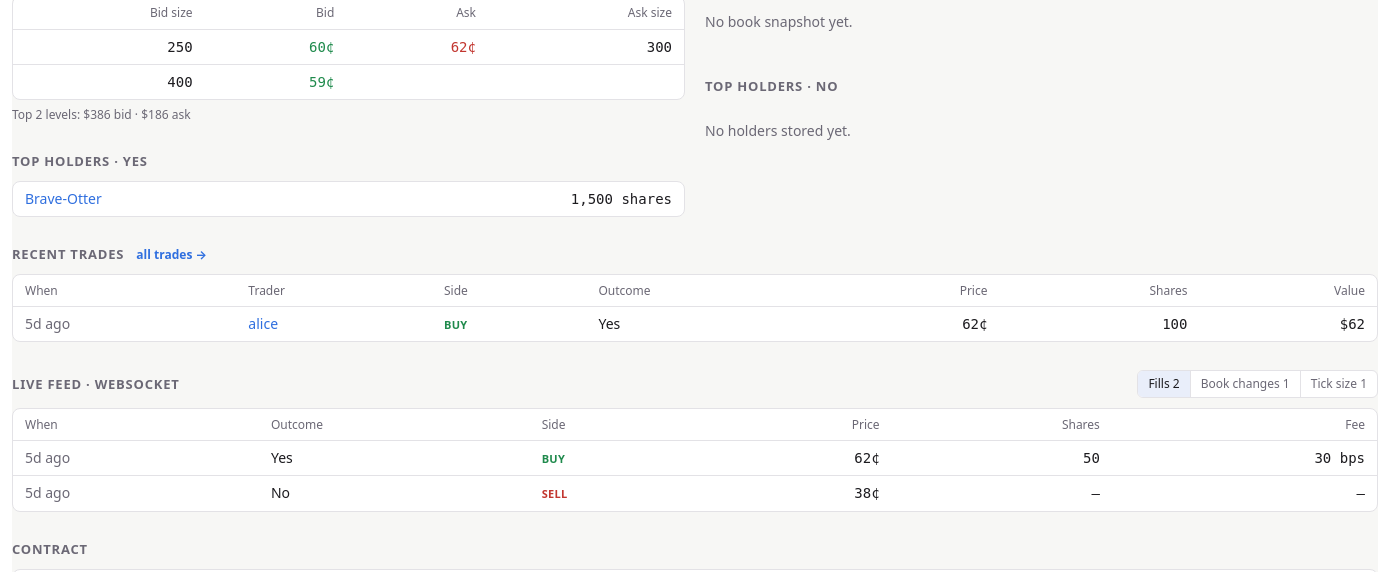
Scenario: Market page › shows the live feed and switches between fills, book changes and tick sizes
(page scrolled)
Check: the heading "Live feed · websocket" is shown, box [12,375,180,393]
Click the button "Book changes 1". click: (1245, 384)
box: [1190,371,1300,397]
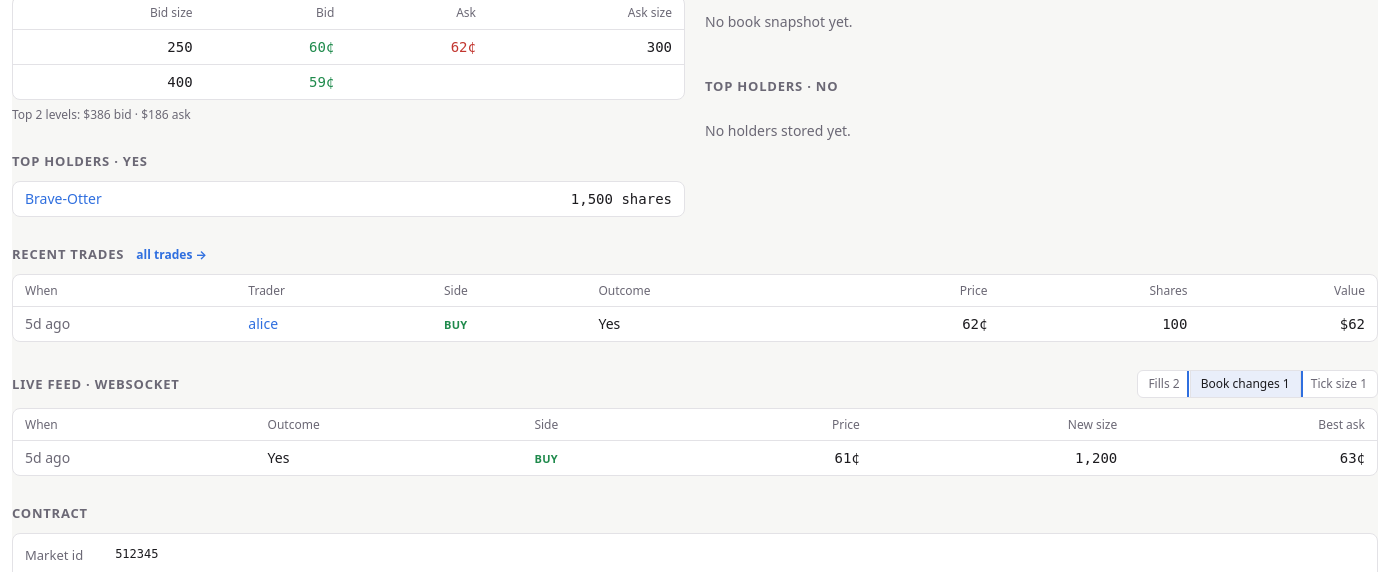
Check: the button "Book changes 1" is pressed, box [1190,371,1300,397]
Click the button "Tick size 1". click: (1338, 384)
box: [1300,371,1377,397]
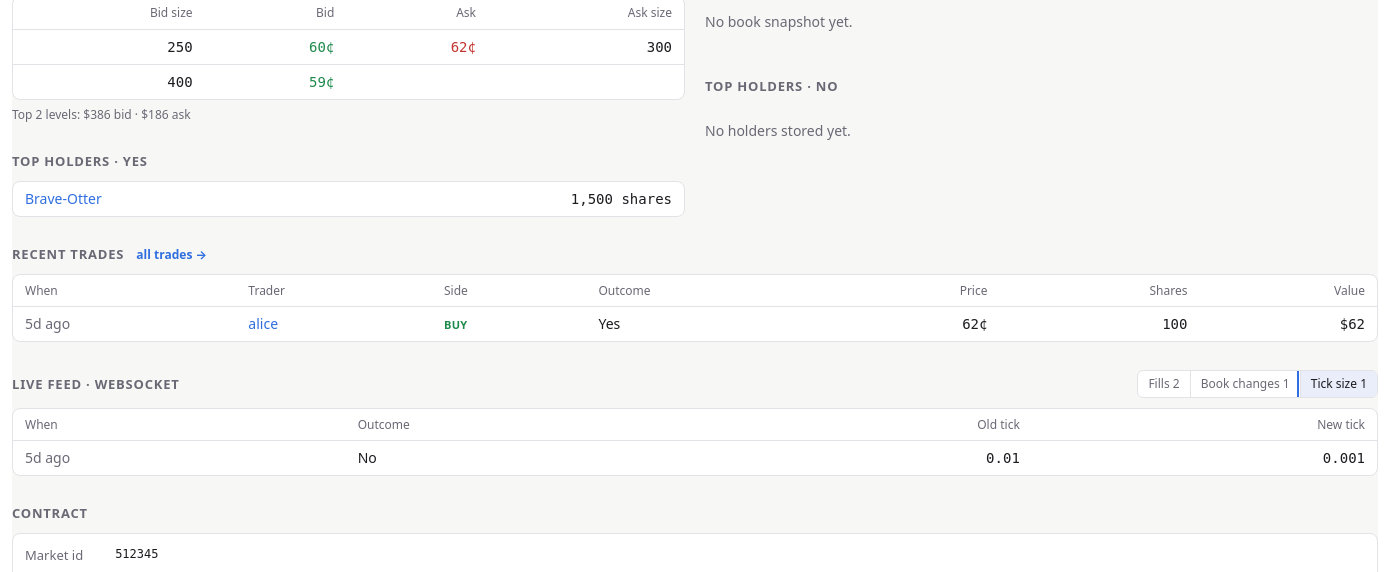
Check: the column heading "Best ask" is gone
Click the button "Fills 2". click: (1164, 384)
box: [1138,371,1190,397]
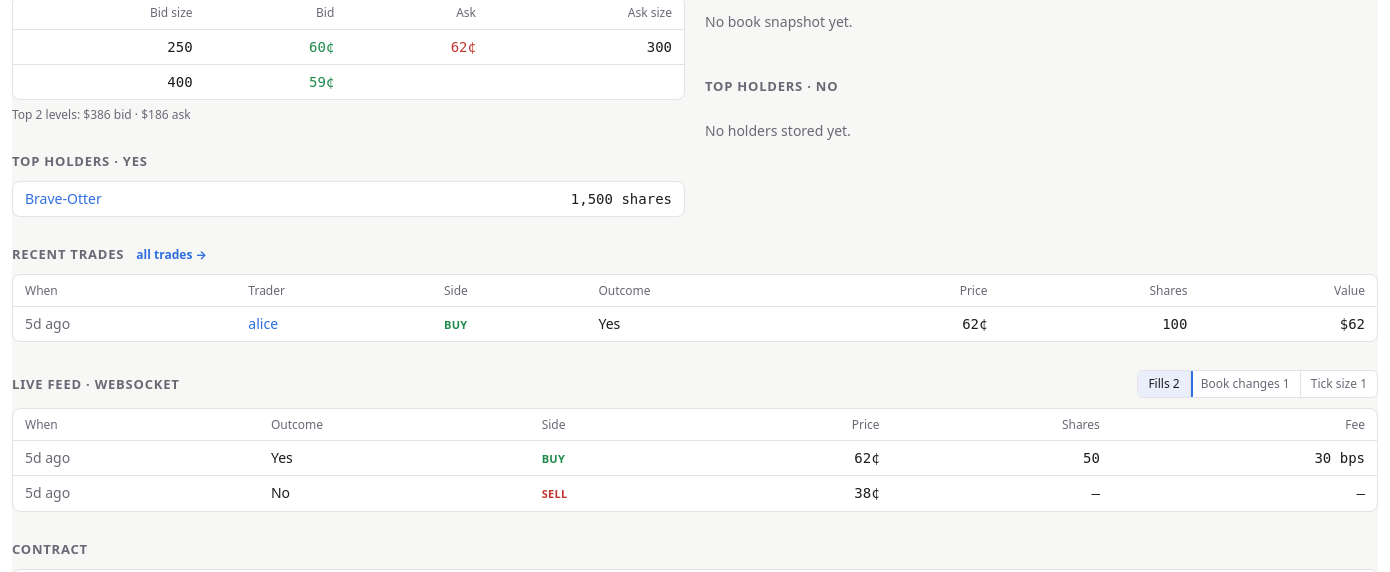
Check: the column heading "Fee" is shown, box [1112,409,1377,441]
